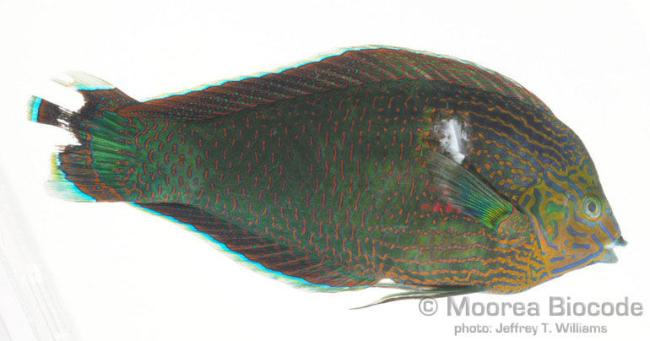fish: (24, 44, 628, 311)
